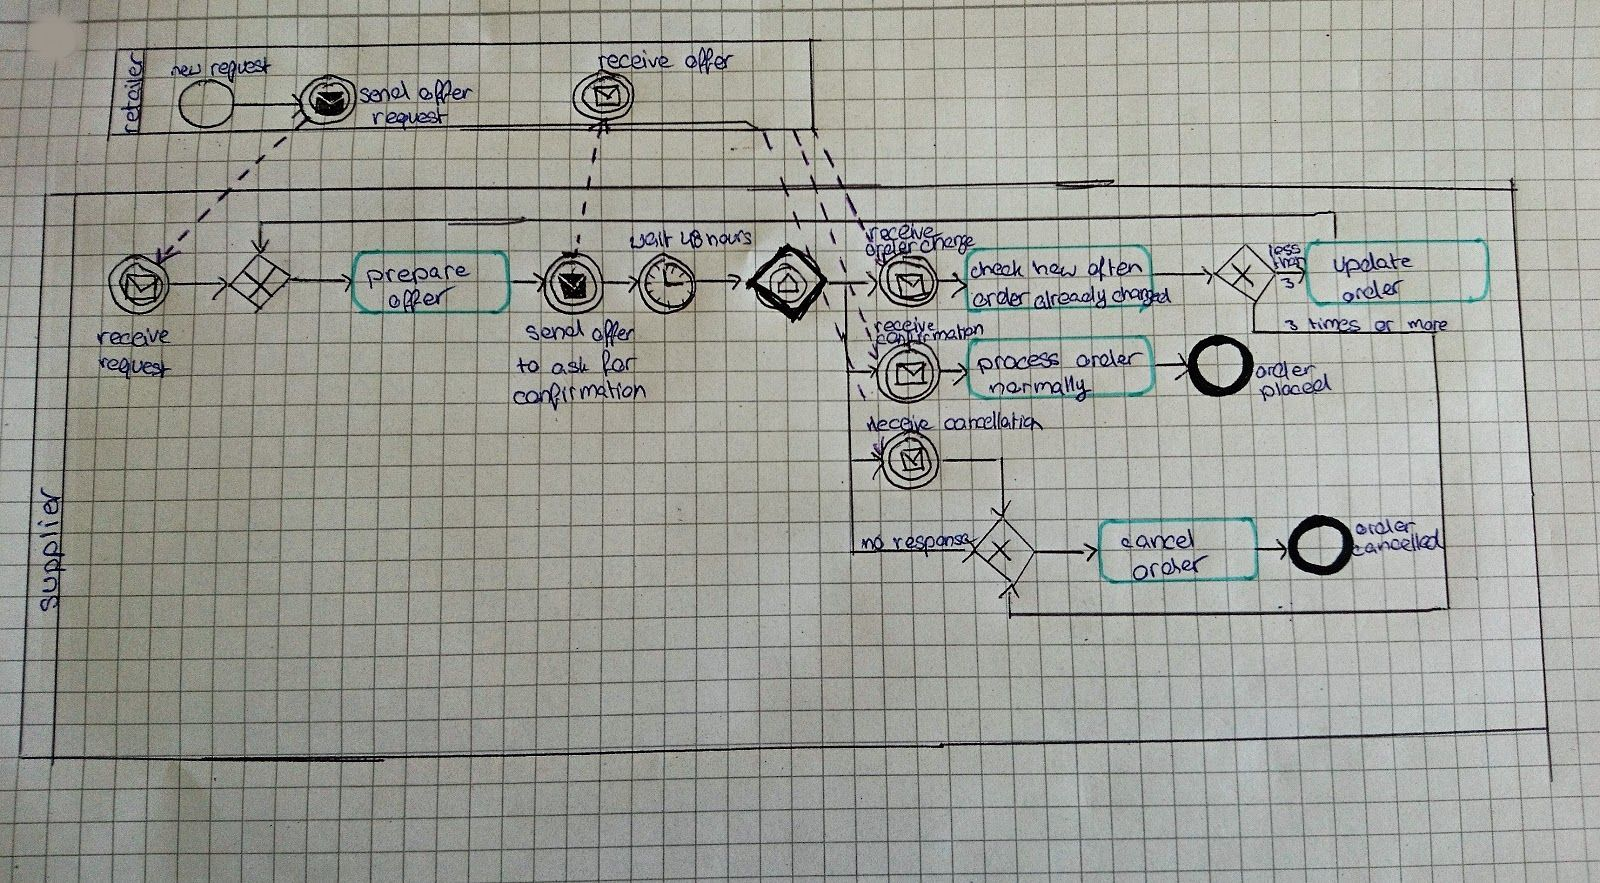3: (1282, 315, 1297, 335), (1280, 274, 1293, 289)
48: (679, 229, 707, 250)
Order: (865, 238, 923, 259)
Update: (1330, 249, 1413, 279)
already: (1033, 285, 1107, 310)
ask: (549, 352, 591, 378)
cancel: (1120, 530, 1192, 554)
cancellation: (943, 411, 1042, 433)
cancelled: (1350, 530, 1446, 561)
change: (916, 232, 976, 251)
changed: (1109, 285, 1173, 309)
check: (968, 260, 1032, 279)
confirmation: (511, 381, 648, 411), (876, 322, 985, 348)
for: (599, 349, 637, 377)
hours: (708, 229, 754, 250)
less: (1268, 240, 1298, 254)
more: (1407, 318, 1449, 332)
new: (1033, 258, 1082, 279), (171, 61, 207, 75)
no: (860, 534, 882, 551)
normally: (985, 376, 1091, 397)
offer: (386, 285, 450, 313), (418, 80, 472, 105), (590, 319, 636, 346), (686, 49, 735, 71)
often: (1087, 257, 1145, 279)
or: (1376, 318, 1401, 335)
order: (1135, 554, 1208, 583), (1252, 357, 1318, 385), (1340, 279, 1404, 307), (1078, 347, 1146, 370), (973, 287, 1030, 311), (1355, 517, 1416, 538)
placed: (1261, 375, 1333, 405)
prepare: (371, 262, 471, 288)
process: (980, 350, 1068, 375)
receive: (865, 219, 939, 244), (595, 51, 676, 72), (96, 328, 171, 348), (867, 413, 937, 434), (872, 318, 936, 335)
request: (96, 355, 171, 380), (371, 107, 446, 129), (208, 55, 272, 79)
response: (892, 530, 980, 554)
retailer: (118, 50, 146, 135)
send: (526, 320, 587, 345), (357, 80, 414, 107)
supplier: (36, 486, 65, 609)
than: (1270, 254, 1307, 269)
times: (1307, 316, 1367, 335)
to: (513, 355, 543, 377)
wait: (630, 231, 673, 252)
